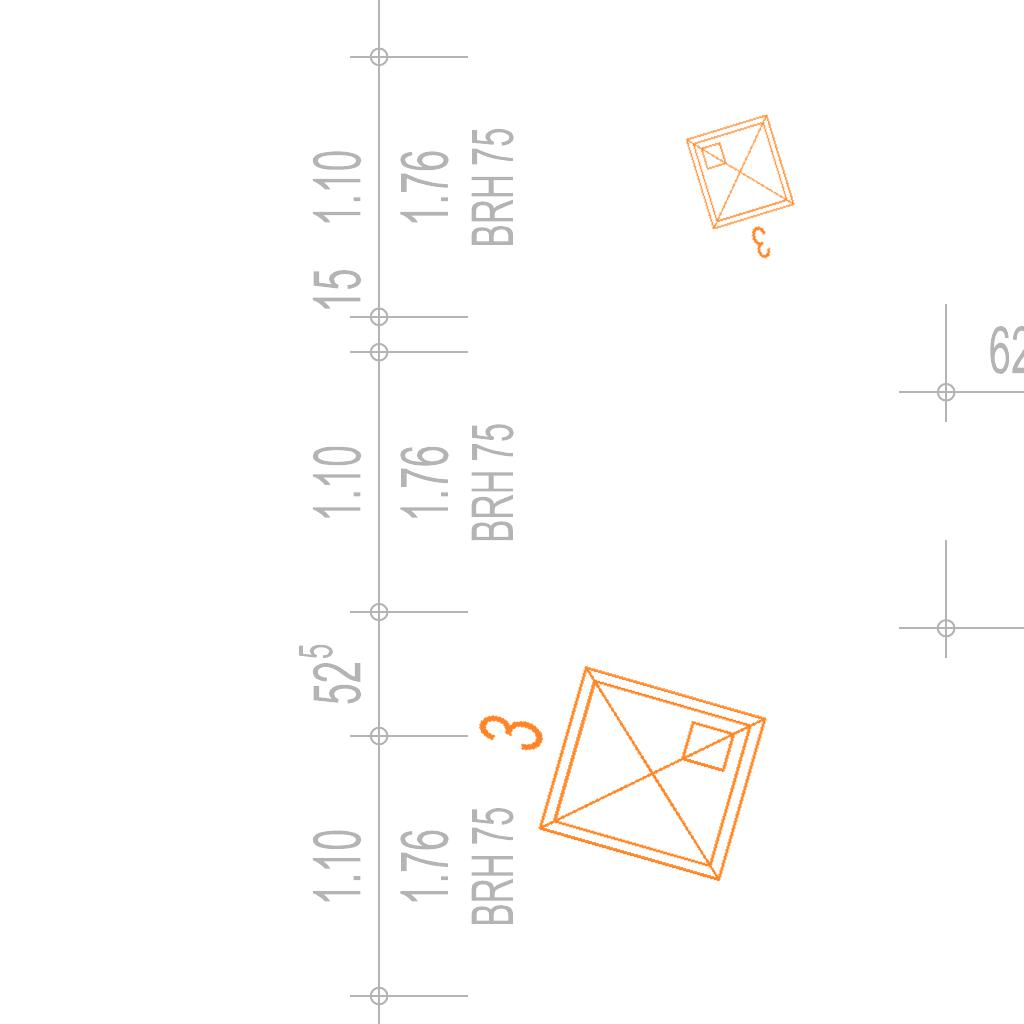Einbaudownlights_LED_Konferenzraeume: (439, 624, 785, 908), (676, 104, 820, 278)
